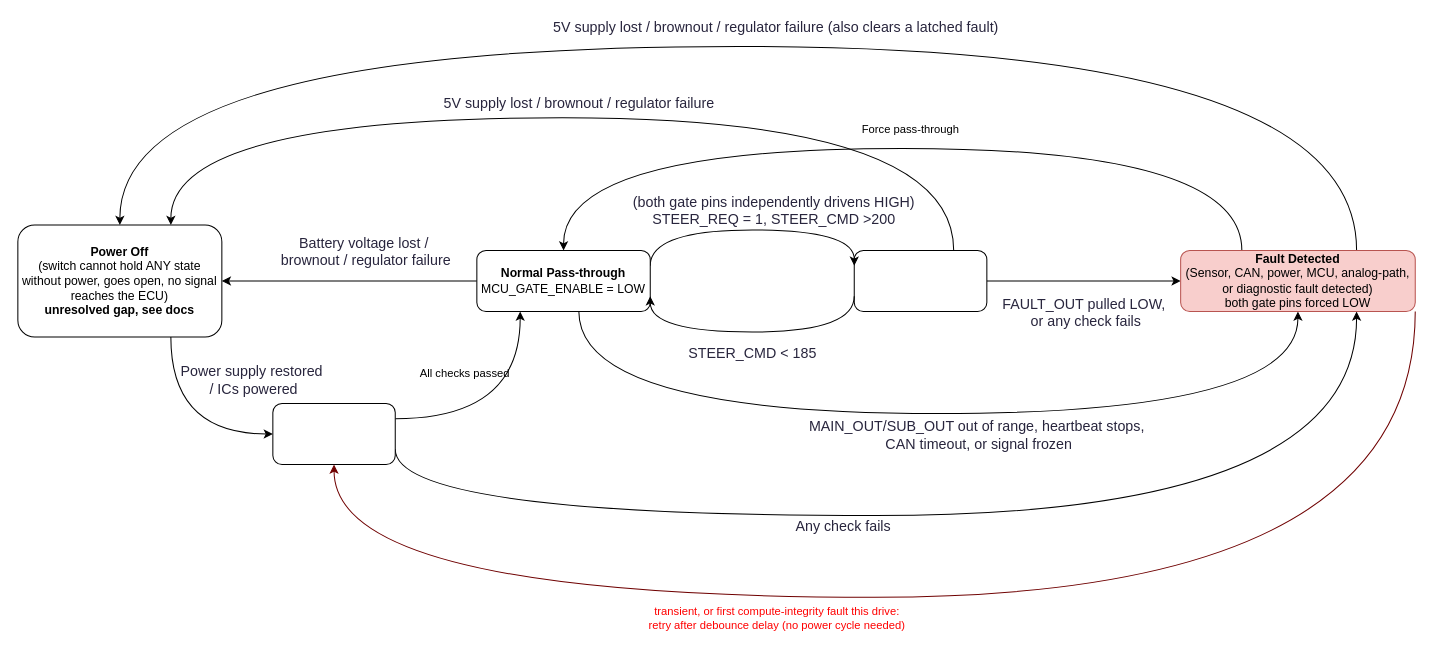
This 1433x649 diagram has some shape labels left out. The centre of each missing label's shape, as x and y in pixels:
"Boost Active both gates HIGH, DAC driven" belongs at (x=920, y=280).
"Startup (checks heartbeat, CAN, ADC)" belongs at (x=333, y=433).
